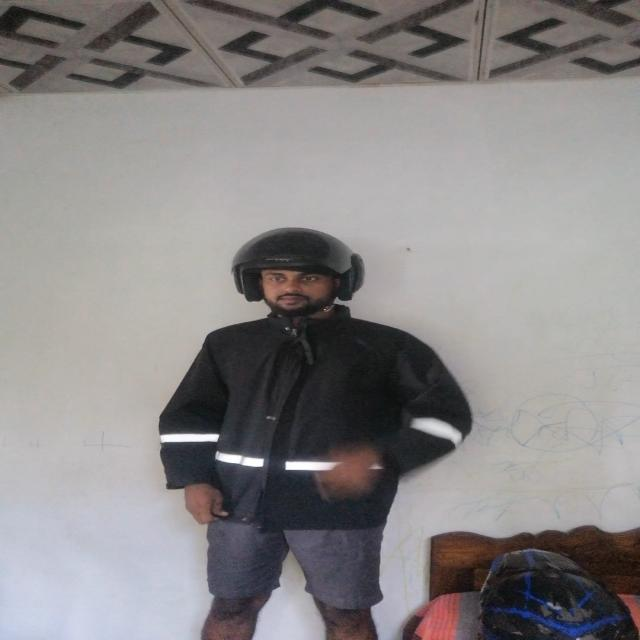Helmet_Wearer: (228, 228, 359, 324)
Jacket_Wearer: (160, 308, 473, 555)
Person: (153, 227, 462, 638)
